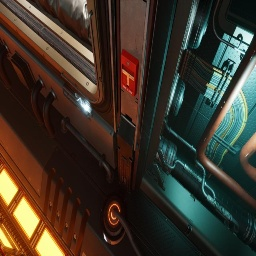FireAlarm ,: (121, 49, 139, 97)
